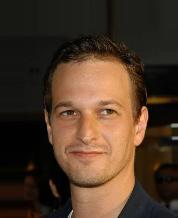face: (52, 101, 130, 164)
